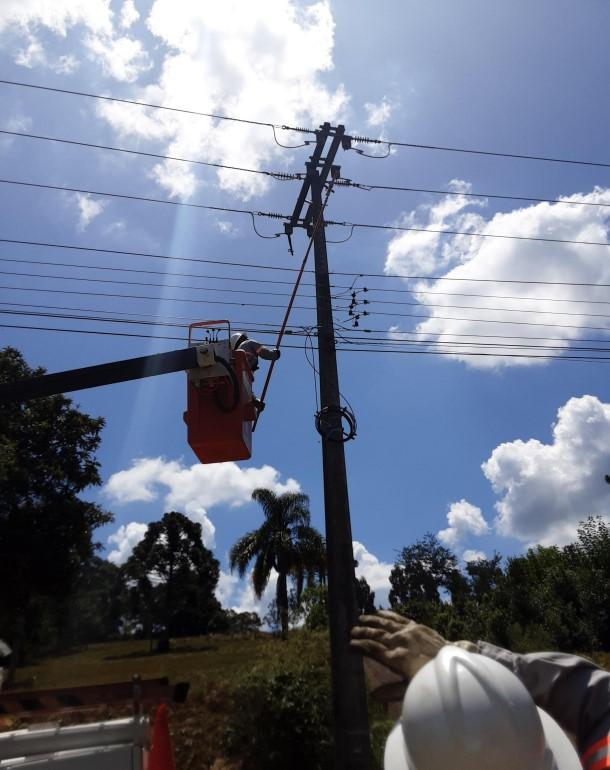Vara_Manobra: (250, 171, 335, 429)
